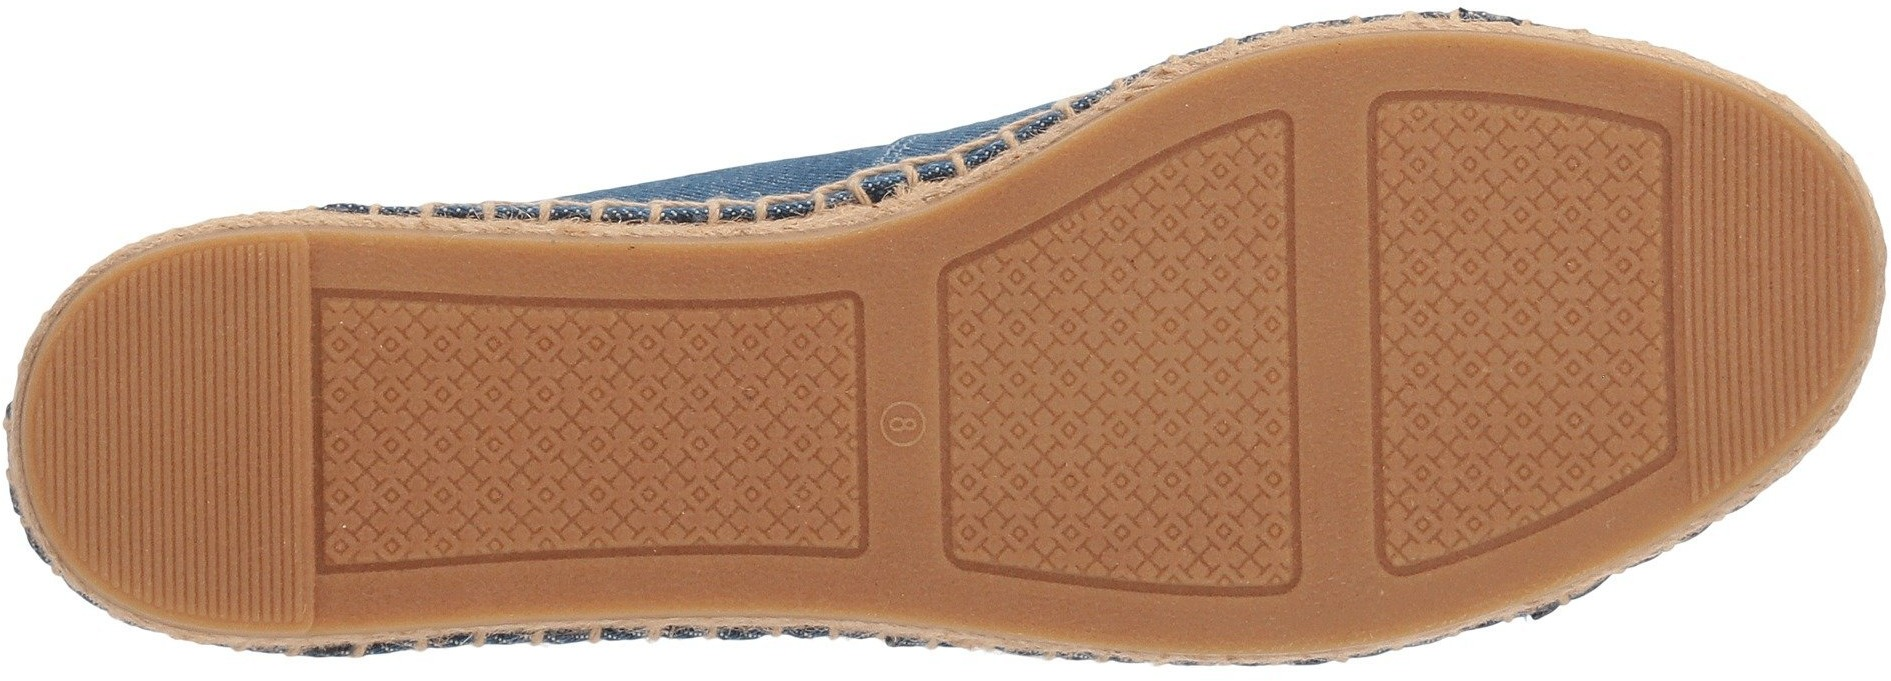circle: (867, 386, 939, 460)
other: (62, 316, 300, 566)
quad: (370, 322, 810, 497), (987, 284, 1245, 548), (1418, 233, 1588, 418)
star: (370, 322, 810, 497), (987, 284, 1245, 548), (1418, 233, 1588, 418)
text: (867, 386, 939, 460)
